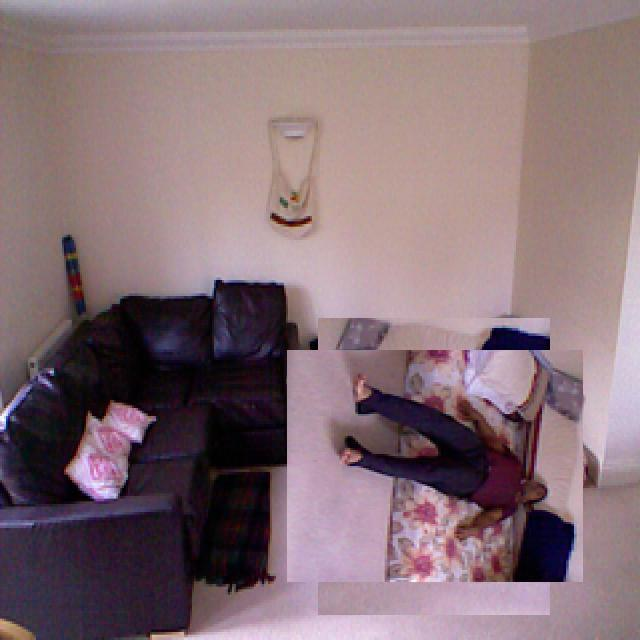Fall: (329, 359, 557, 546)
